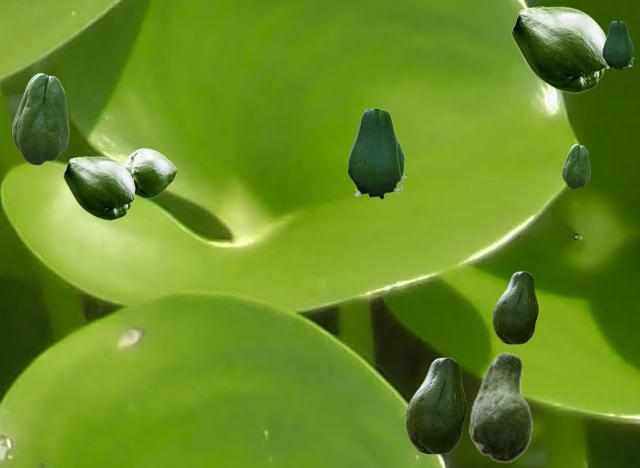sayote: (511, 6, 606, 92), (469, 352, 531, 462), (405, 357, 465, 453), (347, 109, 405, 200), (12, 73, 68, 164), (63, 156, 134, 219), (492, 271, 537, 343), (123, 148, 176, 197), (602, 21, 633, 70), (562, 144, 589, 188)
